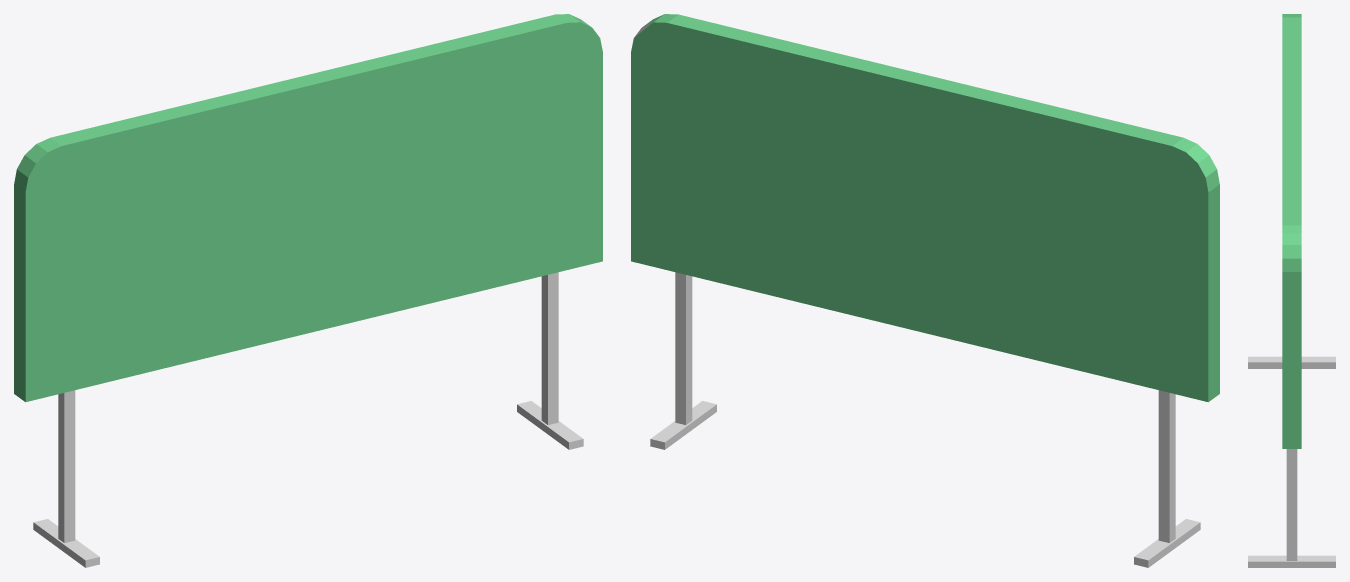
The model's file is divider.dae.
3 views of the same model, side by side, from view 1: azimuth 30°, elevation 25°; view 2: azimuth 150°, elevation 25°; view 3: azimuth 270°, elevation 25° (orthographic). The views are drawn at different scales.
Parts seen in each view (by area): view 1: AR_divider; view 2: AR_divider; view 3: AR_divider.
Part boxes in pixels (x1,y1,x2,y2): AR_divider: (14,14,602,567); AR_divider: (631,14,1219,567); AR_divider: (1248,14,1335,567).
Size of the model in its own units: 1.6 by 0.25 by 1.08.
